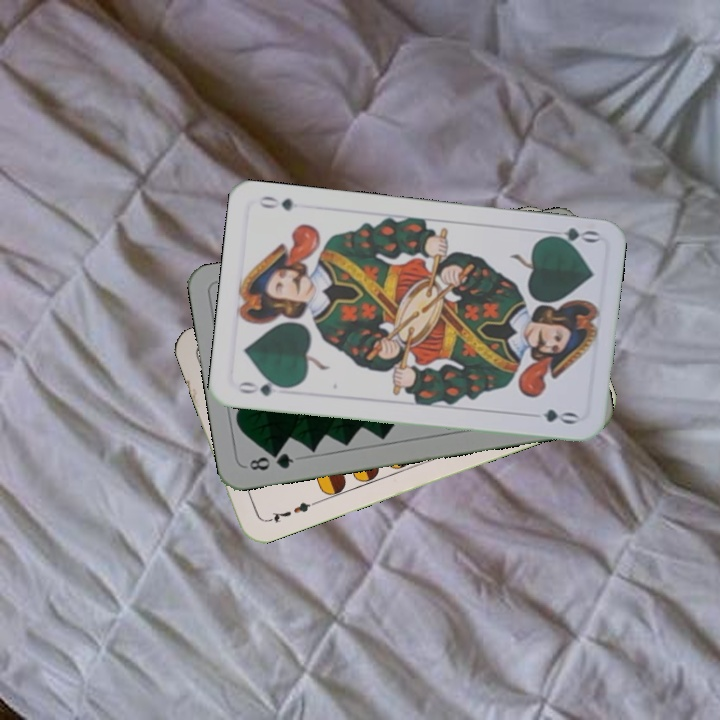E7: (262, 497, 319, 526)
G8: (245, 448, 296, 474)
GO: (541, 223, 601, 249), (233, 376, 293, 399)
